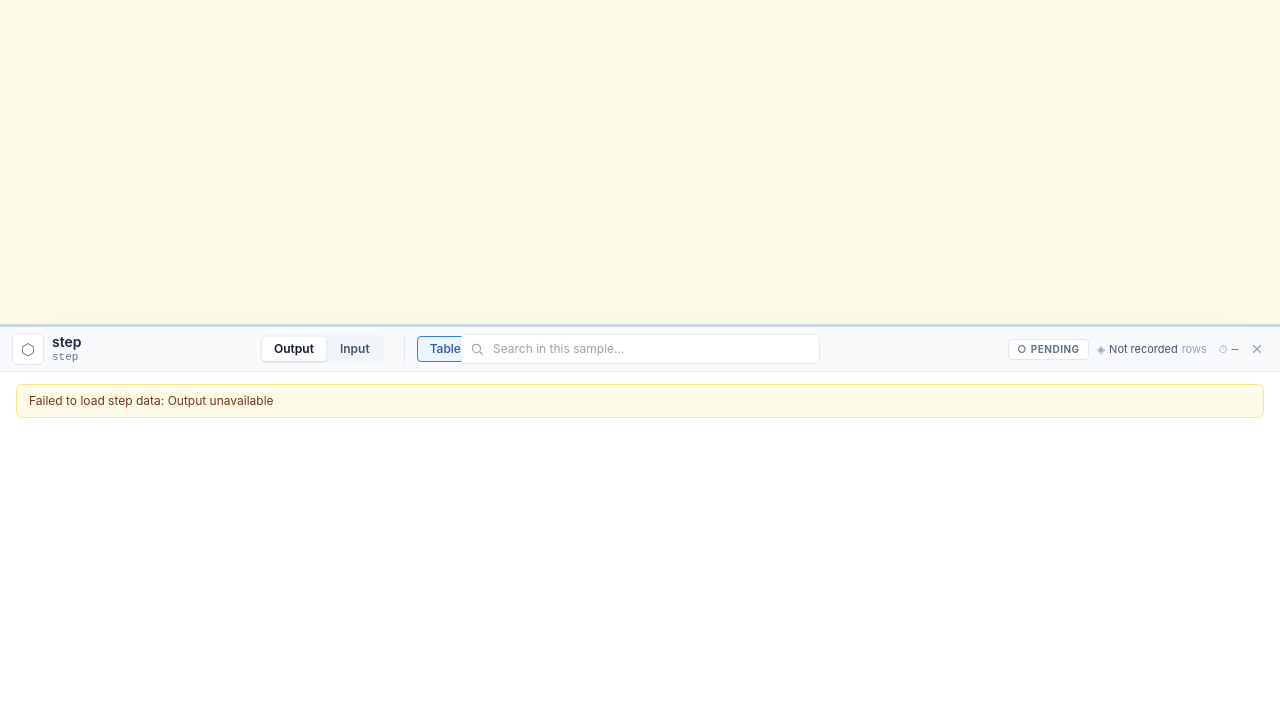
Test: historical step samples › keeps input inspectable when the output request fails
The width and height of the screenshot is (1280, 720).
Check: the text "Failed to load step data: Output unavailable" is shown, box [16,384,1264,418]
Click the button "Input": point(355, 349) [328,337,382,361]
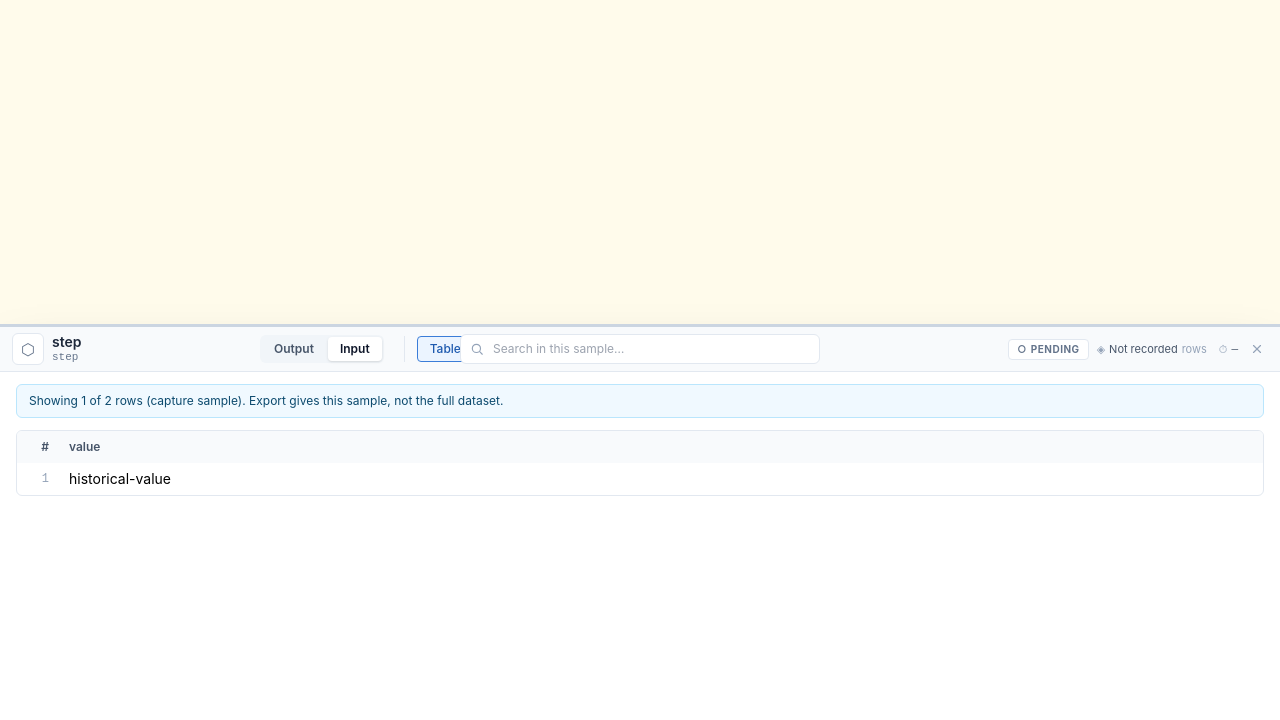
Check: the text "historical-value" is shown, box [57,463,1263,495]
Check: the text "Failed to load" is gone
